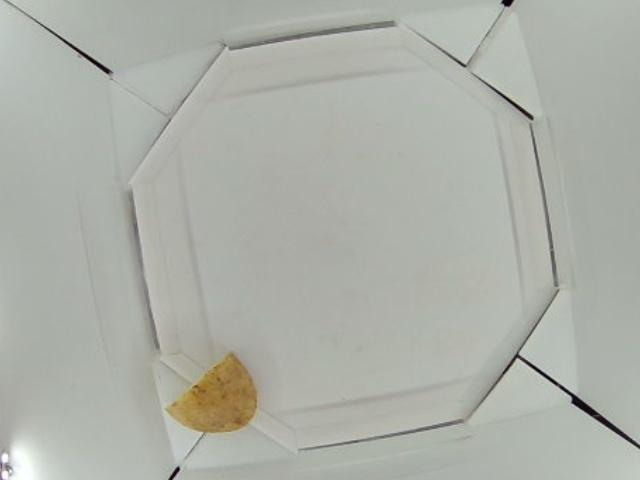Potato: (167, 348, 256, 433)
